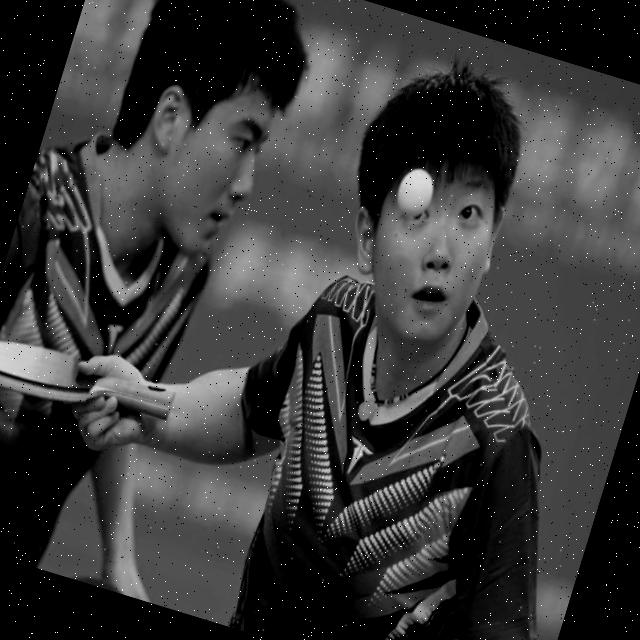ping-pong-ball: (386, 156, 442, 222)
